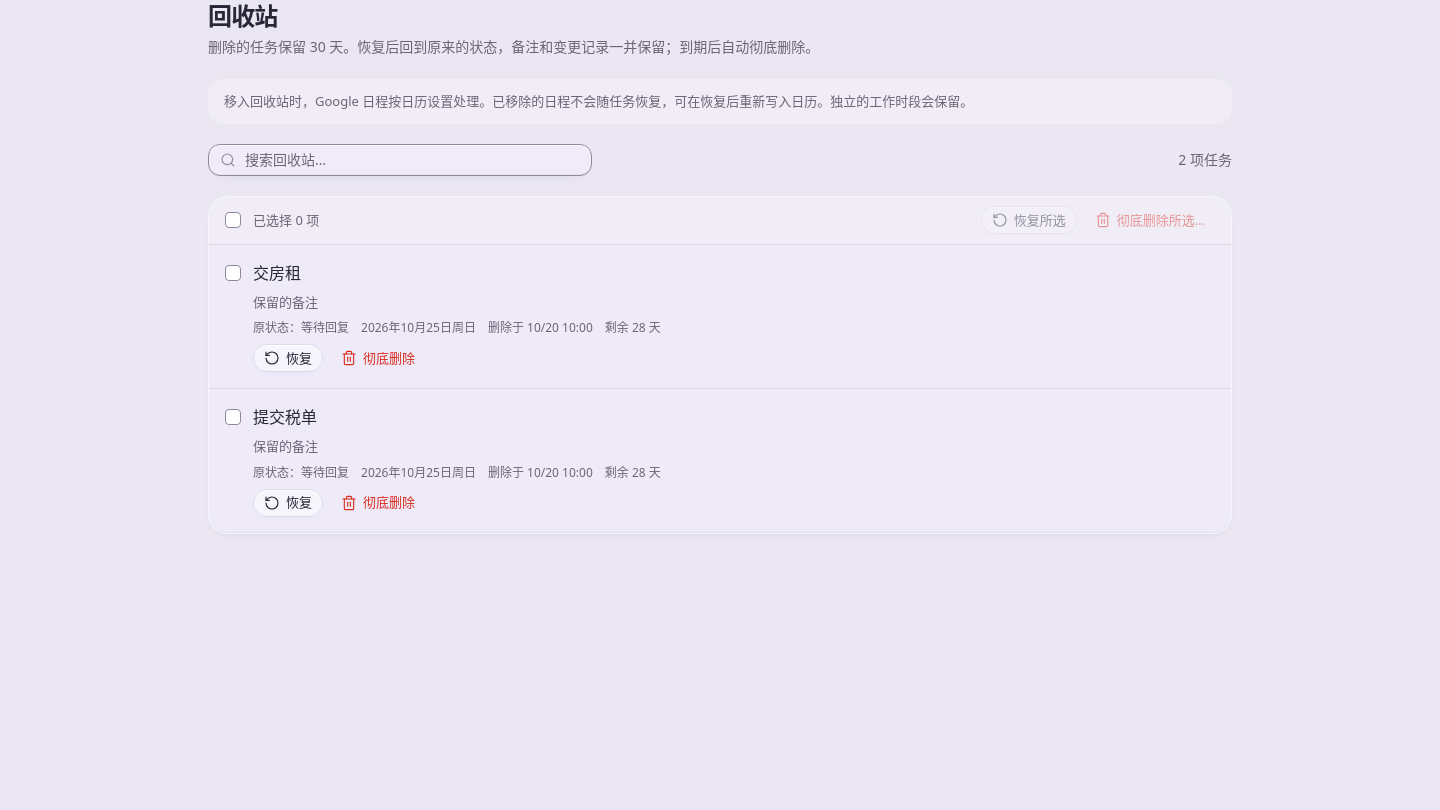
Test case: Task recycle bin › only permanently deletes after confirming a dialog that names the selected task
Click the button with aria-label "彻底删除「交房租」" at coordinates (378, 358), box [331, 344, 425, 372]
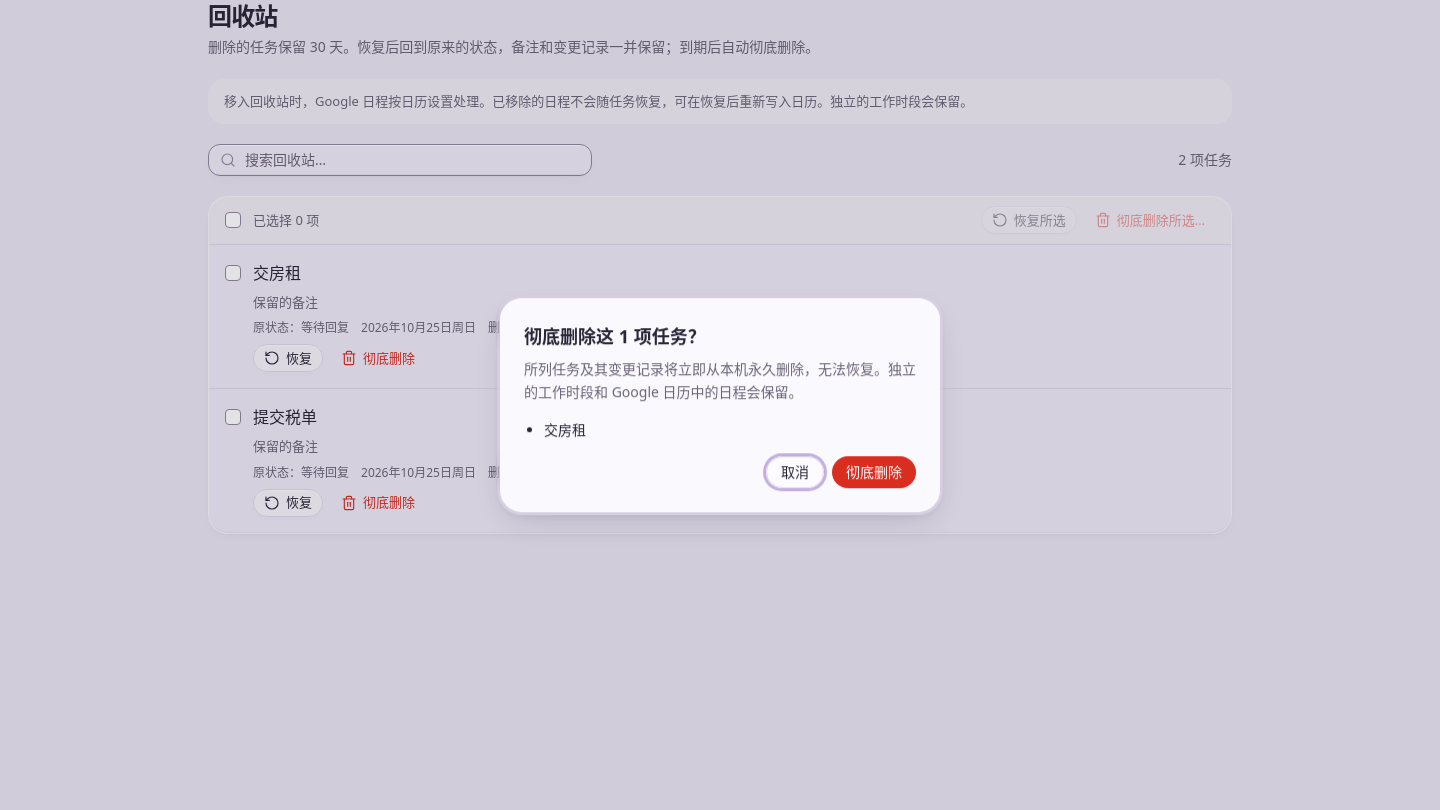
Expected: the list item "交房租" is shown, [544, 420, 586, 439]
Expected: the text "所列任务及其变更记录将立即从本机永久删除，无法恢复。独立的工作时段和 Google 日历中的日程会保留。" is shown, [524, 358, 916, 404]
Click the button "取消" at coordinates (795, 472), box [766, 456, 824, 488]
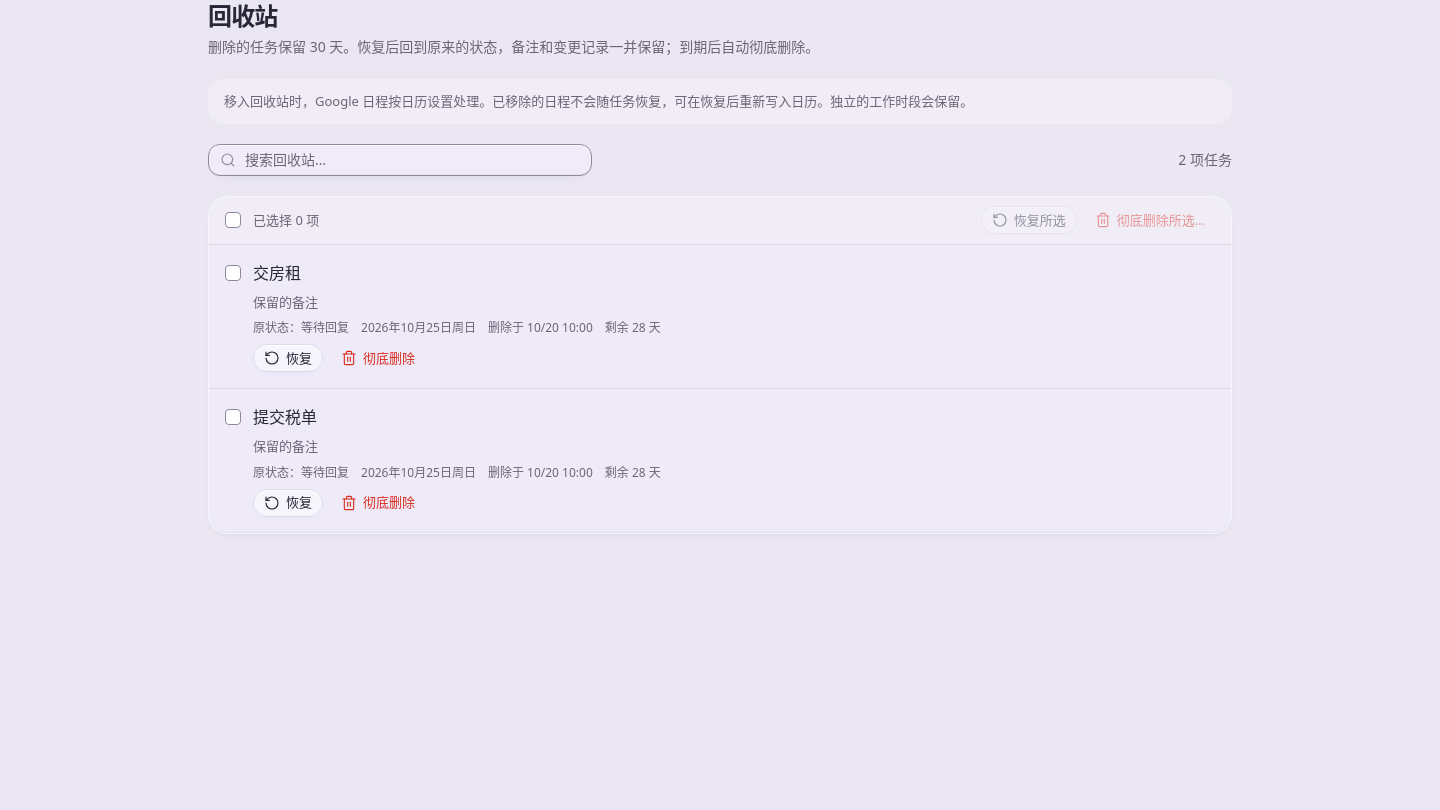
Click the checkbox named "选择「交房租」" at coordinates (233, 273), box [225, 265, 241, 281]
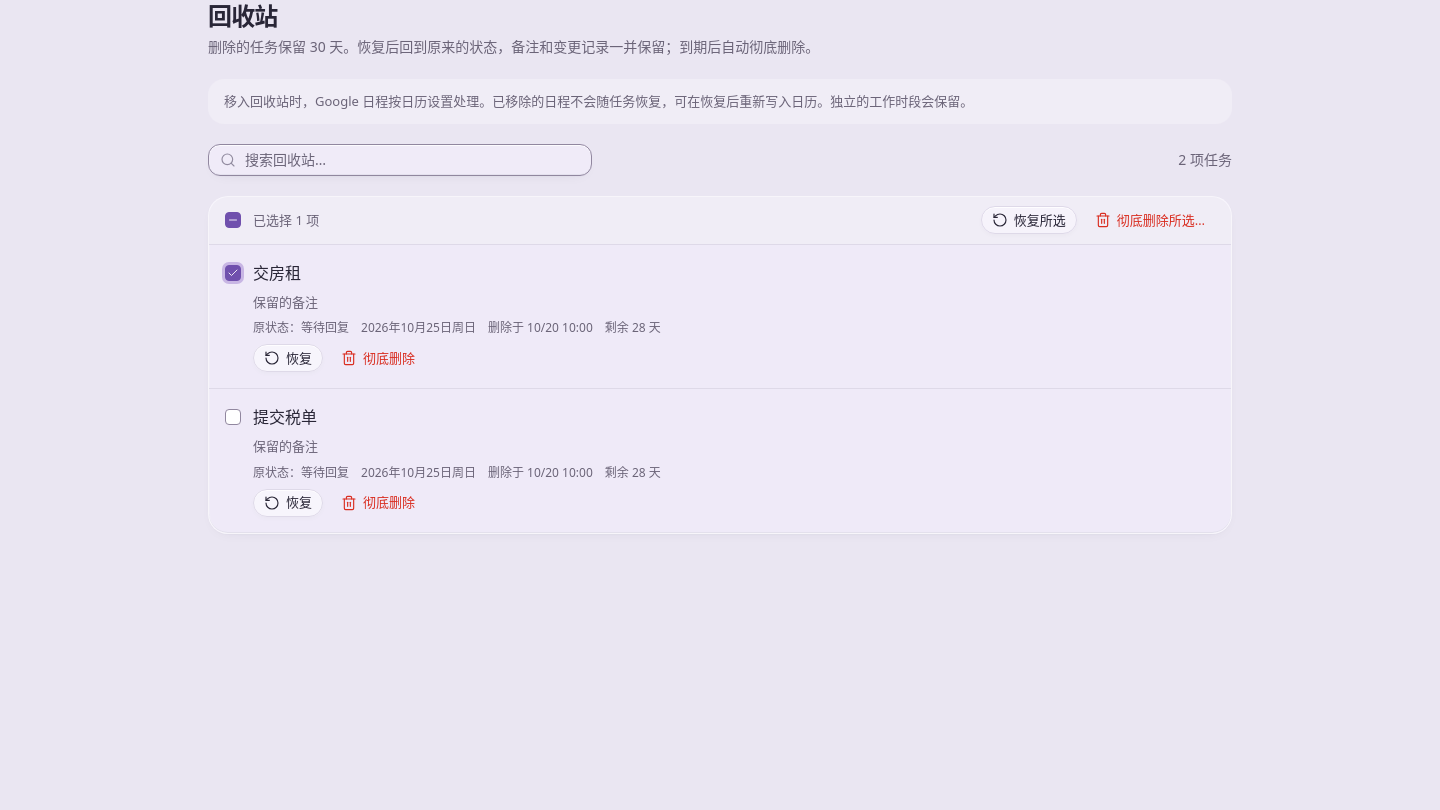
Click the button "彻底删除所选…" at coordinates (1150, 220), box [1085, 206, 1215, 234]
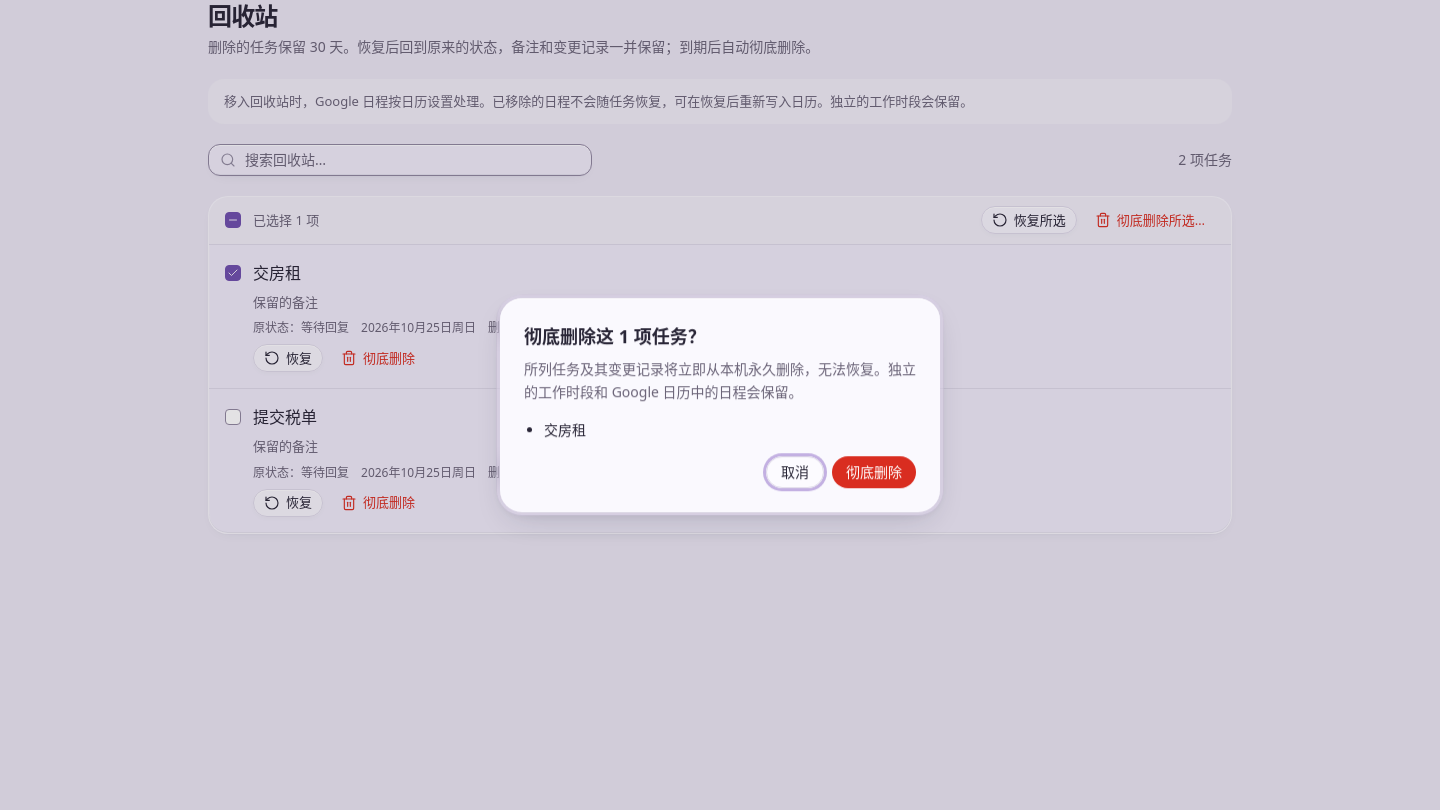
Click the button "彻底删除" at coordinates (874, 472), box [832, 456, 916, 488]
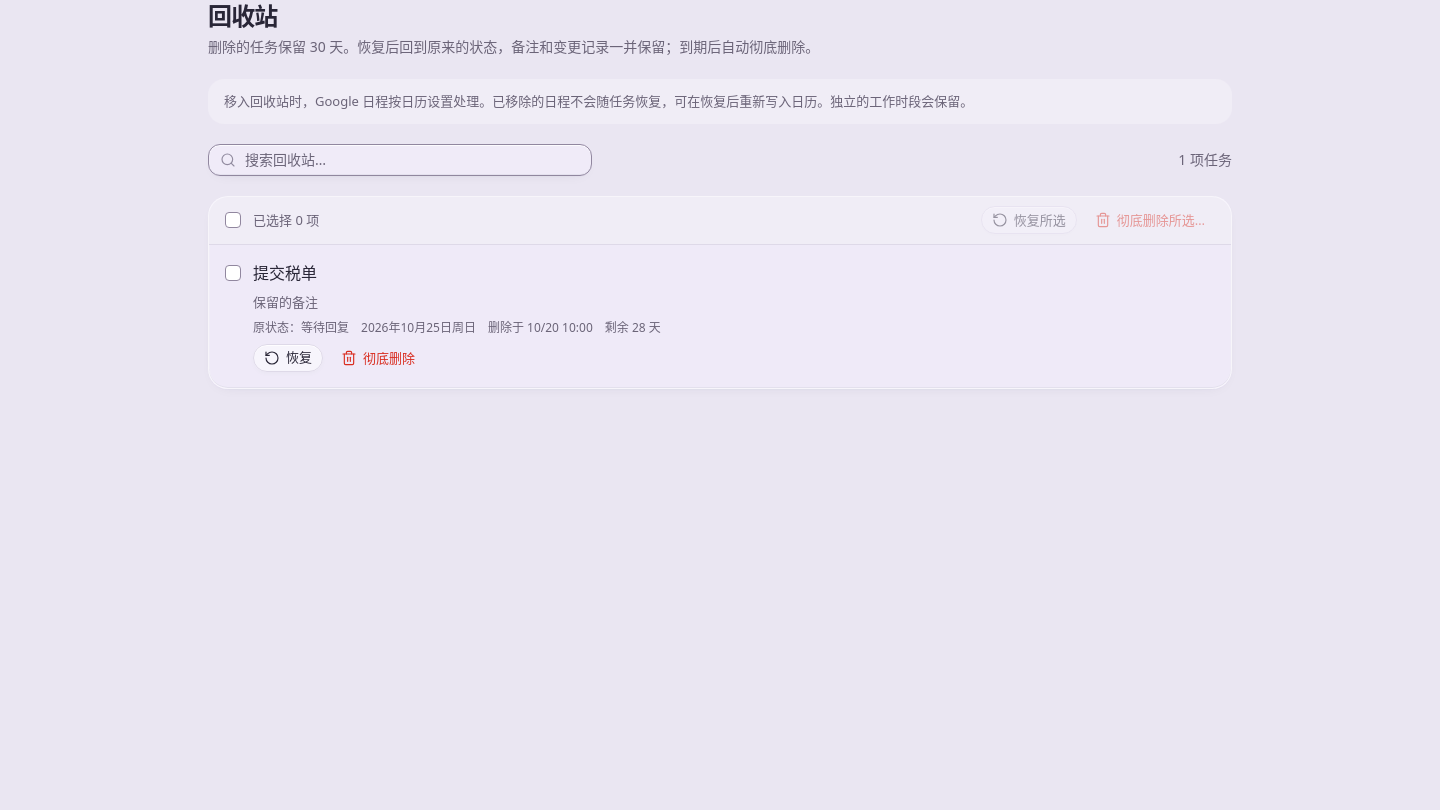
Expected: the text "交房租" is gone
